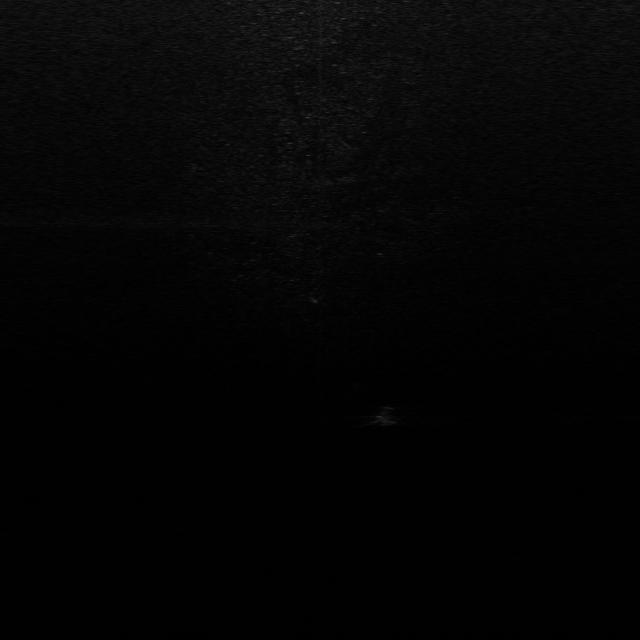ball: (372, 404, 402, 426)
circle cage: (307, 286, 331, 306)
